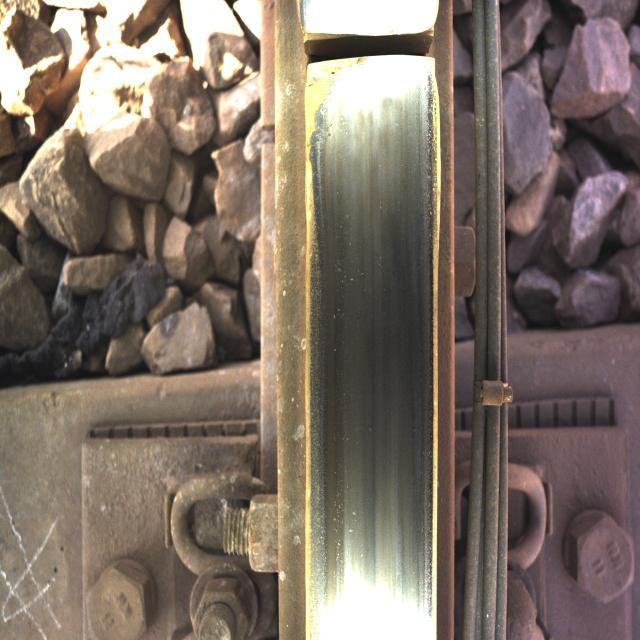spalling: (284, 0, 462, 106)
